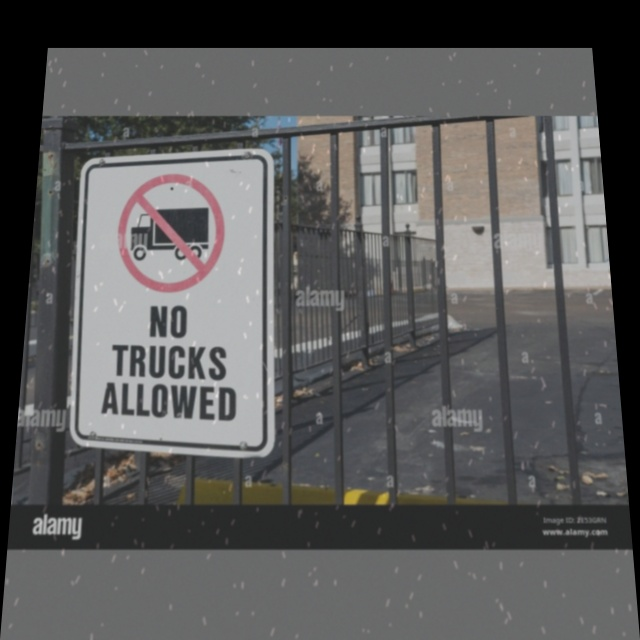Truck_Prohibited: (108, 165, 231, 299)
